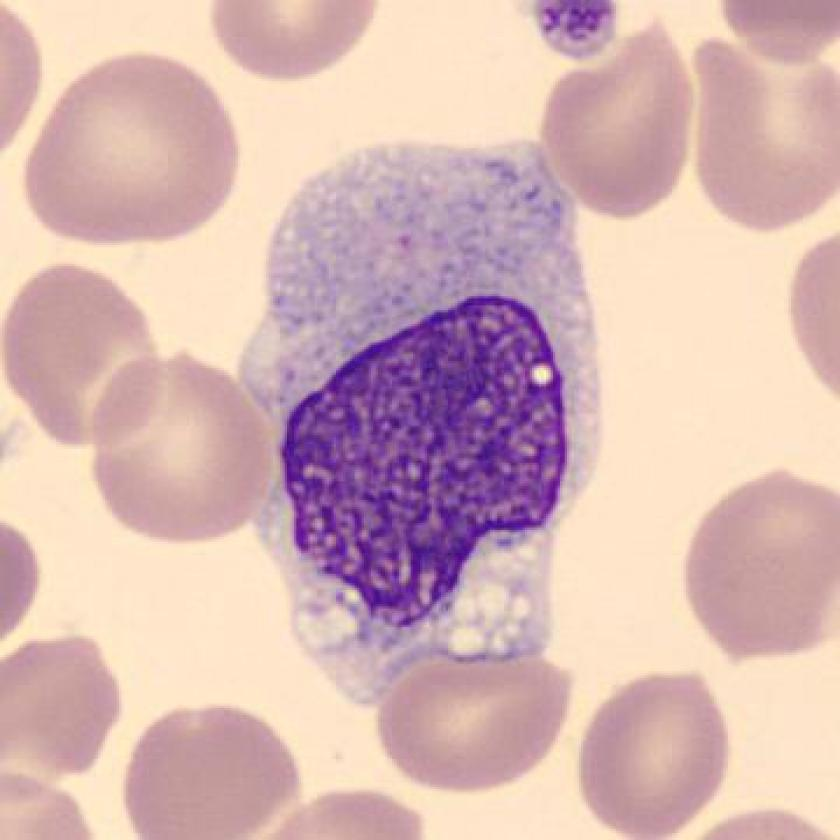monocyte: (218, 126, 626, 716)
